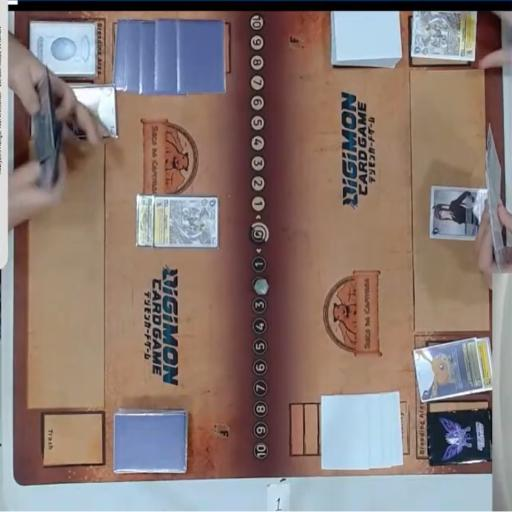card: (412, 338, 480, 400), (152, 195, 222, 249), (428, 184, 492, 242), (409, 8, 475, 60), (59, 84, 120, 140), (477, 334, 495, 396), (135, 196, 154, 247)
